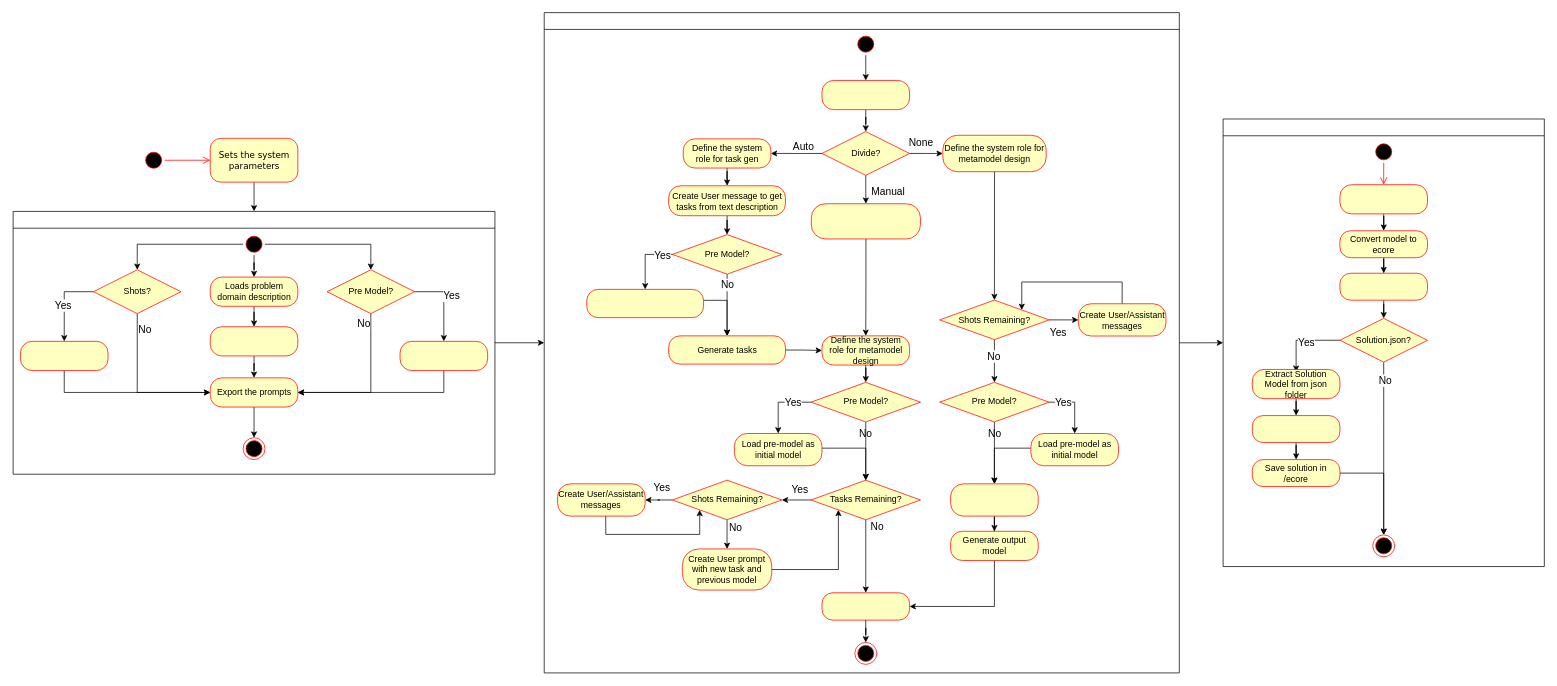
This 1557x686 diagram has some shape labels left out. Each missing label, with the box of its shape:
Add pre model to the prompt and update the system role: (586, 289, 704, 318)
Call to the LLM model: (543, 12, 1179, 673)
Convert solution to ecore: (1252, 415, 1340, 443)
Convertion to Ecore: (1222, 118, 1544, 567)
Create client/model: (821, 80, 910, 110)
Create User request: (950, 483, 1038, 516)
Data import: (12, 211, 495, 474)
Divide problem text description per line and save it as tasks: (811, 203, 920, 239)
Extract Output Model from json folder: (1339, 184, 1428, 214)
Load the example models: (20, 341, 108, 371)
Load the pre model: (399, 341, 488, 371)
Load the text description: (210, 326, 298, 356)
Save model in /ecore: (1339, 273, 1428, 300)
Save output model in csv and json folder: (821, 592, 910, 620)
